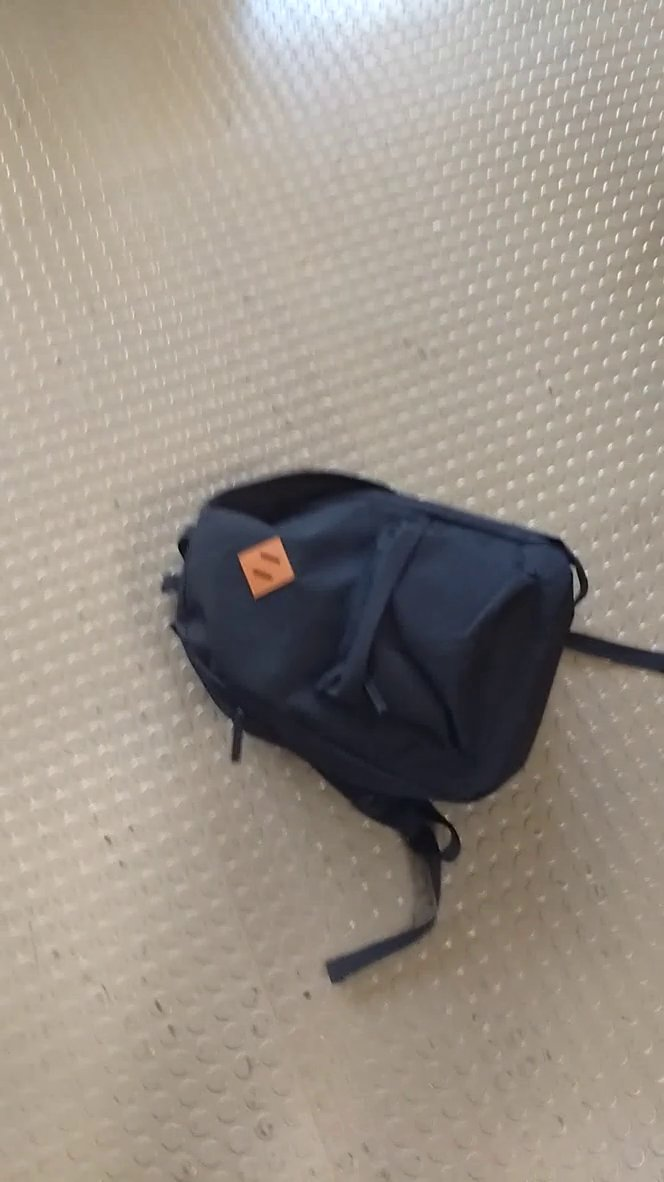bag: (153, 463, 658, 992)
